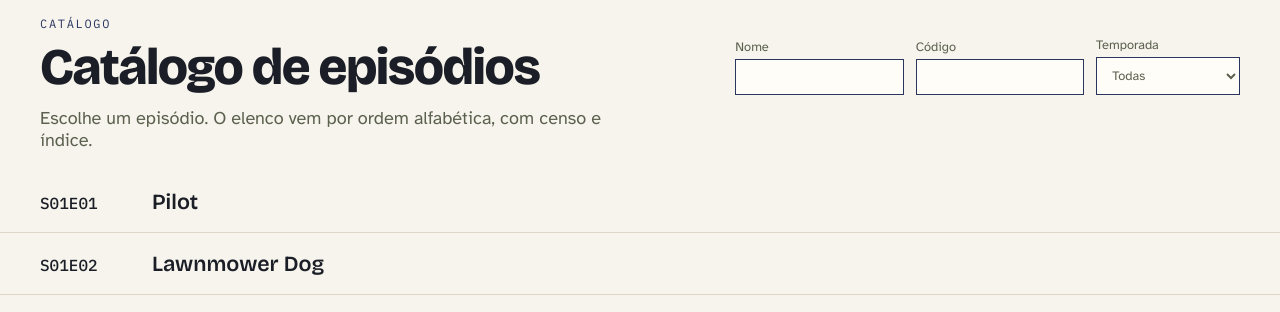
Scenario: filtra ao escrever, sem botão
This screenshot has width=1280, height=312.
In the field labelled "Nome": (820, 77) x1=735 y1=59 x2=904 y2=95, type "Lawn"
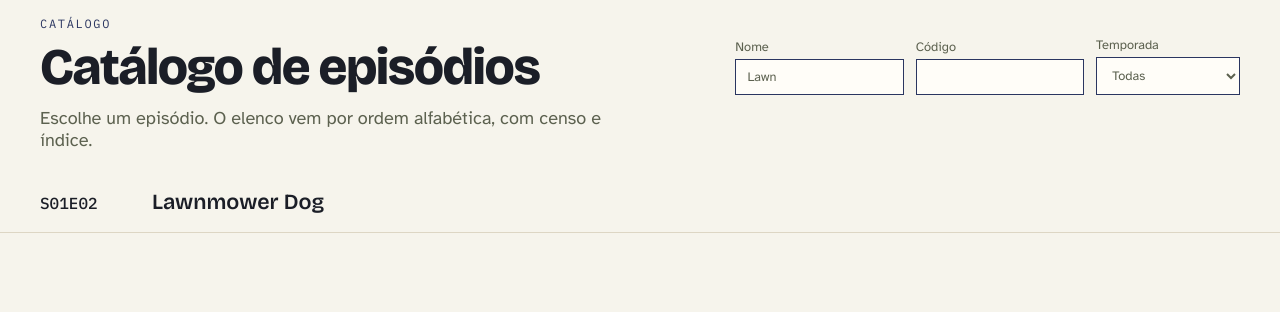
Expected: the link "S01E02 Lawnmower Dog" is shown, x1=0 y1=171 x2=1279 y2=233
Now the link "Pilot" is gone
In the field labelled "Código": (1000, 77) x1=916 y1=59 x2=1084 y2=95, type "S01E02"
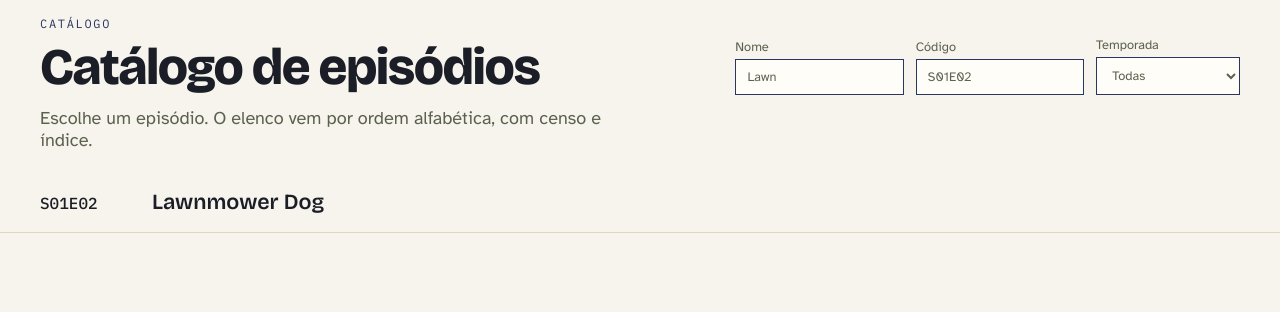
Select "2" in the dropdown labelled "Temporada": (1168, 76) x1=1096 y1=57 x2=1240 y2=95
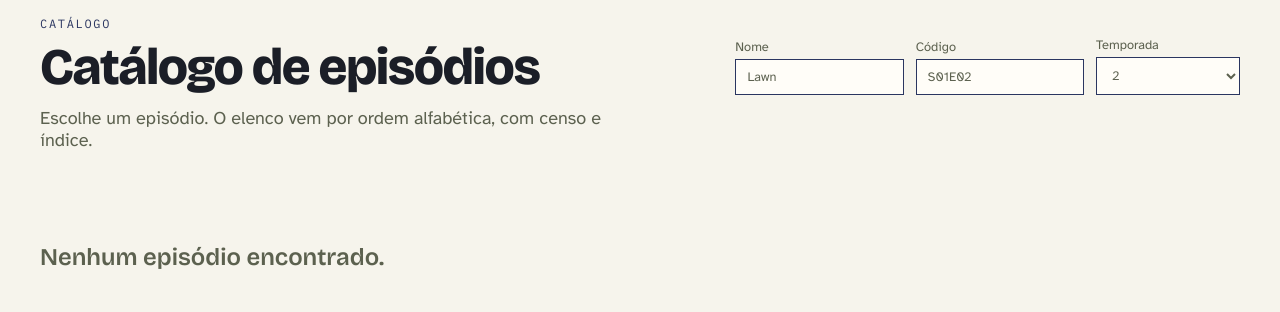
Now the text "Nenhum episódio encontrado." is shown, box x1=40 y1=243 x2=384 y2=271
